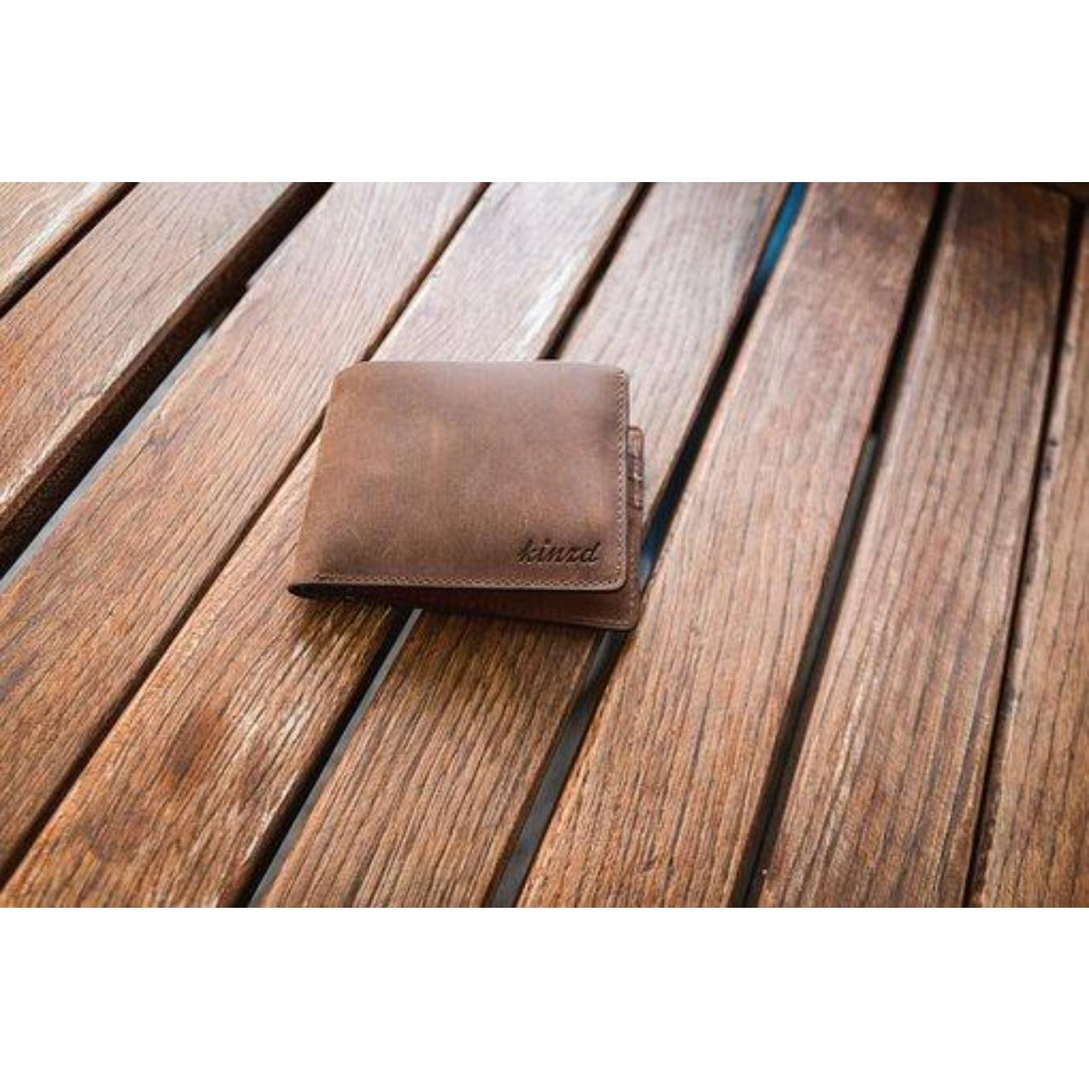wallet: (271, 310, 726, 655)
